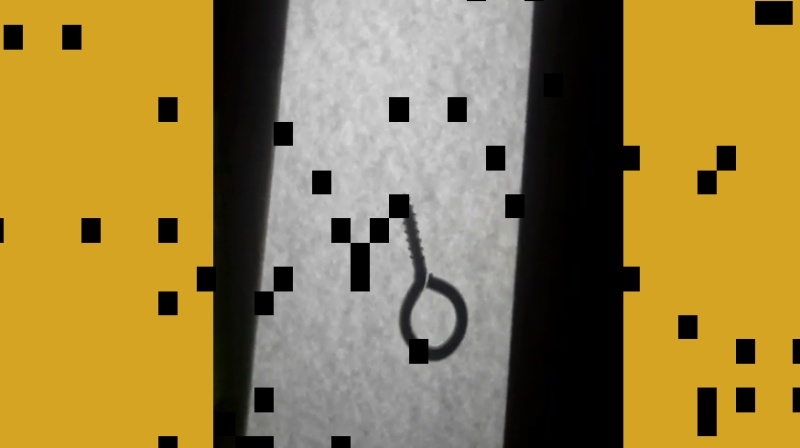O001: (398, 190, 471, 363)
